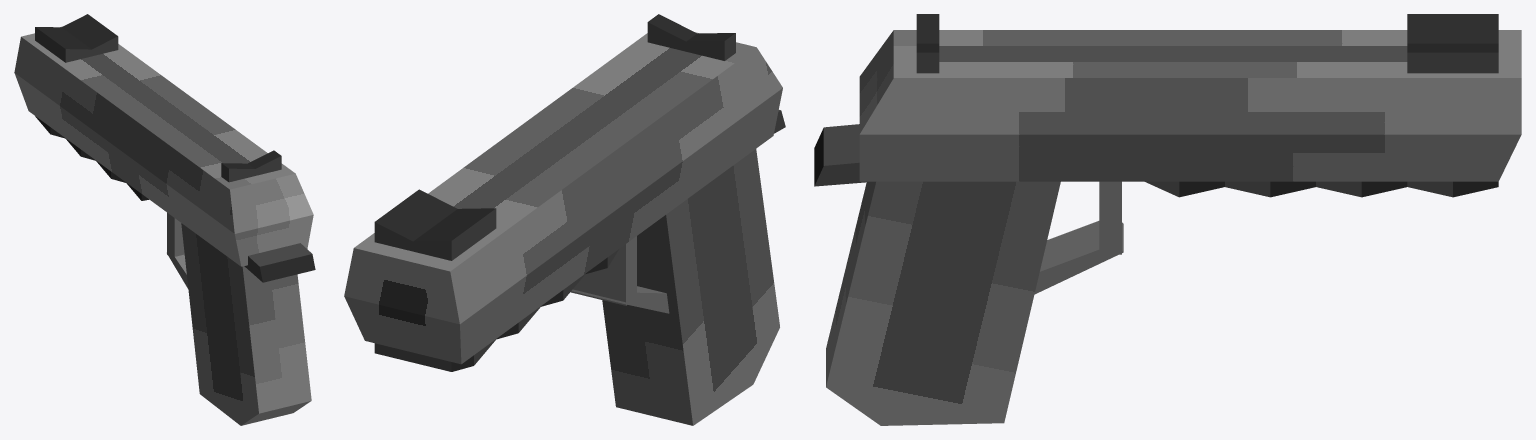
File: eagle.gltf
3 views of the same model, side by side, from view 1: azimuth 30°, elevation 25°; view 2: azimuth 150°, elevation 25°; view 3: azimuth 270°, elevation 25° (orthographic). The views are drawn at different scales.
Visible parts, largest first — view 1: mesh (×8); view 2: mesh (×7); view 3: mesh (×8).
Boxes of the visible parts, x1,y1,x2,y2 form: mesh (×8): (14, 14, 315, 425); mesh (×7): (344, 14, 782, 425); mesh (×8): (814, 14, 1521, 425).
Size of the model in its own units: 0.1875 by 0.564 by 0.9681.
Materials: 1 (1 with a texture image).
